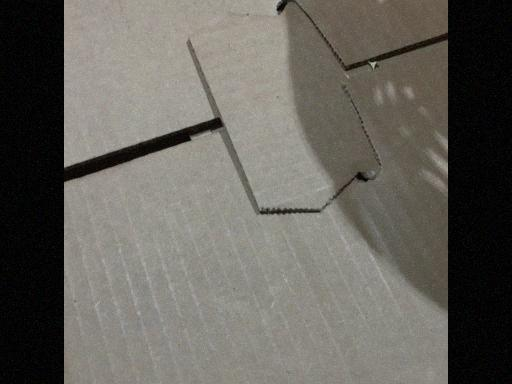cardboard: (72, 6, 444, 383)
paper: (70, 5, 446, 382)
